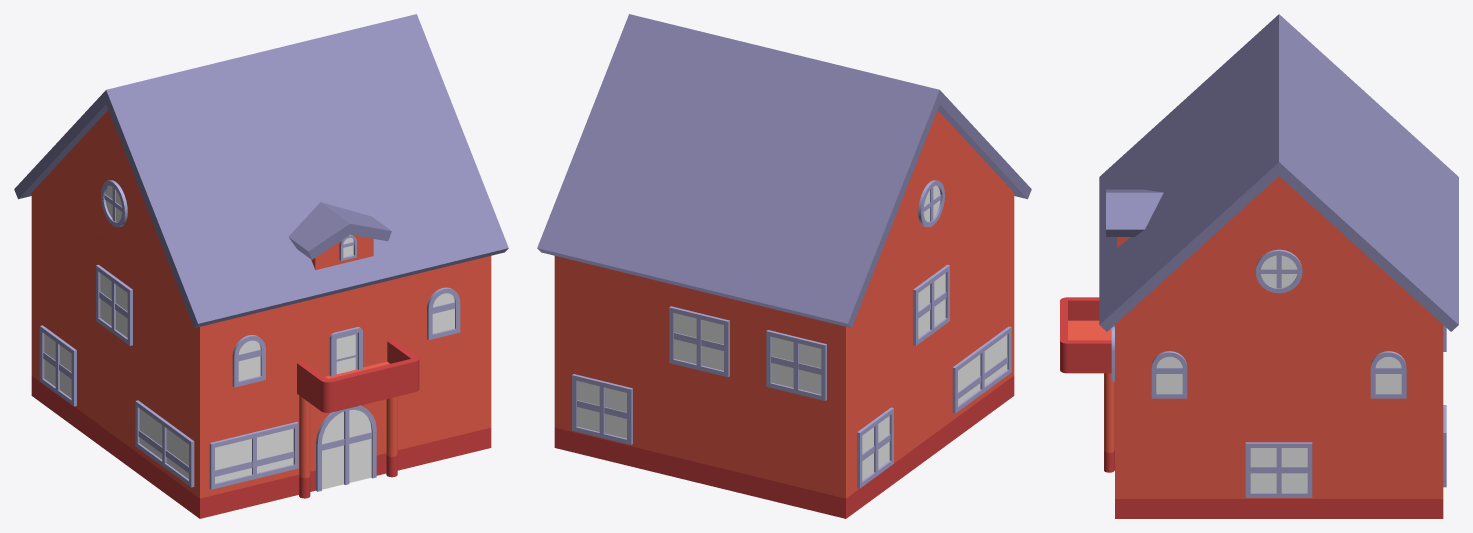
File: mini_mansion.fbx
3 views of the same model, side by side, from view 1: azimuth 30°, elevation 25°; view 2: azimuth 150°, elevation 25°; view 3: azimuth 270°, elevation 25° (orthographic). The views are drawn at different scales.
Visible parts, largest first — view 1: mergedBlocks; view 2: mergedBlocks; view 3: mergedBlocks.
Part boxes in pixels (x1=…): mergedBlocks: x1=14, y1=14, x2=508, y2=518; mergedBlocks: x1=537, y1=14, x2=1031, y2=518; mergedBlocks: x1=1060, y1=14, x2=1458, y2=518.
Size of the model in its own units: 32 by 36.41 by 36.41.
